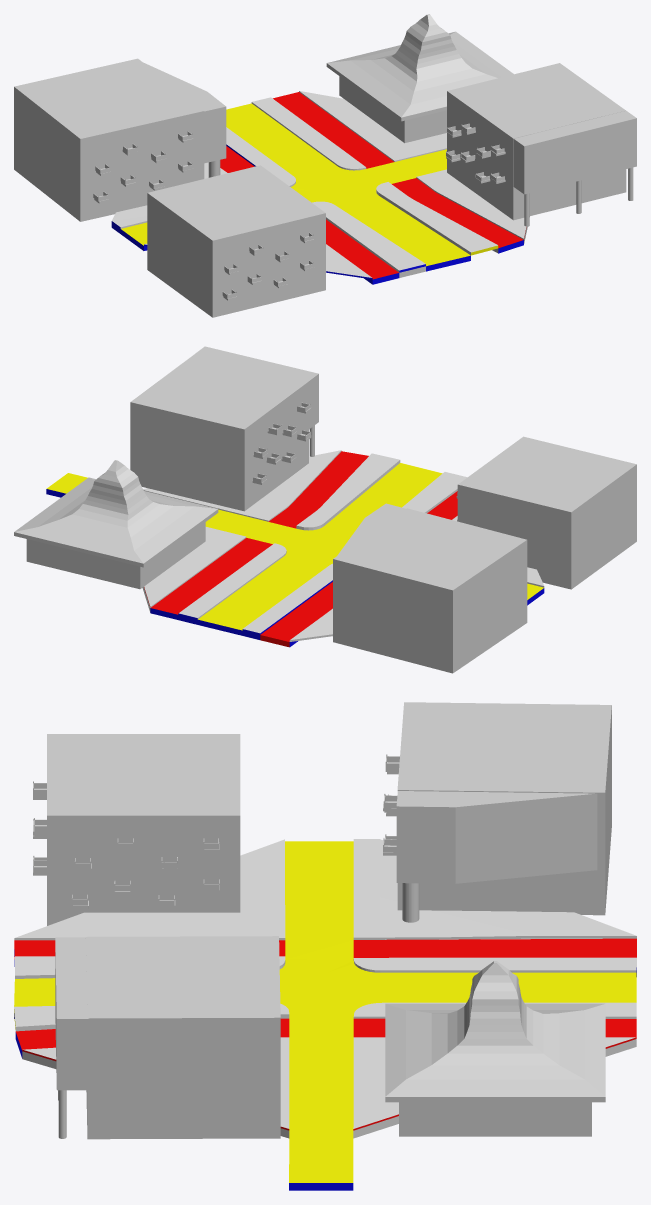
The model's file is Pws Omgeving 13.fbx.
3 views of the same model, one above another, from view 1: azimuth 30°, elevation 25°; view 2: azimuth 150°, elevation 25°; view 3: azimuth 270°, elevation 25° (orthographic). The views are drawn at different scales.
Parts seen in each view (by area): view 1: Cube.020; view 2: Cube.020; view 3: Cube.020.
Boxes of the visible parts, <box> form: Cube.020: <box>14,14,636,317</box>; Cube.020: <box>14,346,636,673</box>; Cube.020: <box>14,702,636,1190</box>.
Bounding box in the file's own units: 10787 × 2122 × 7931.
